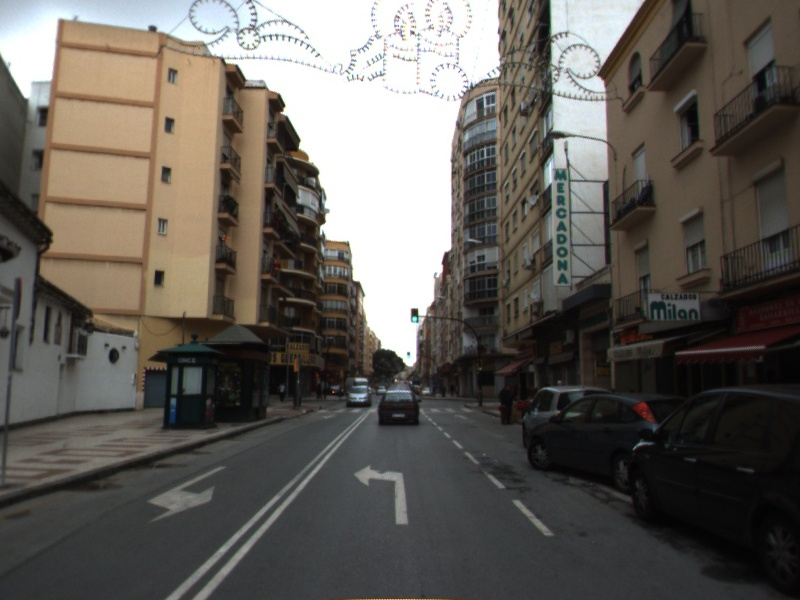LEFT: (352, 463, 409, 526)
